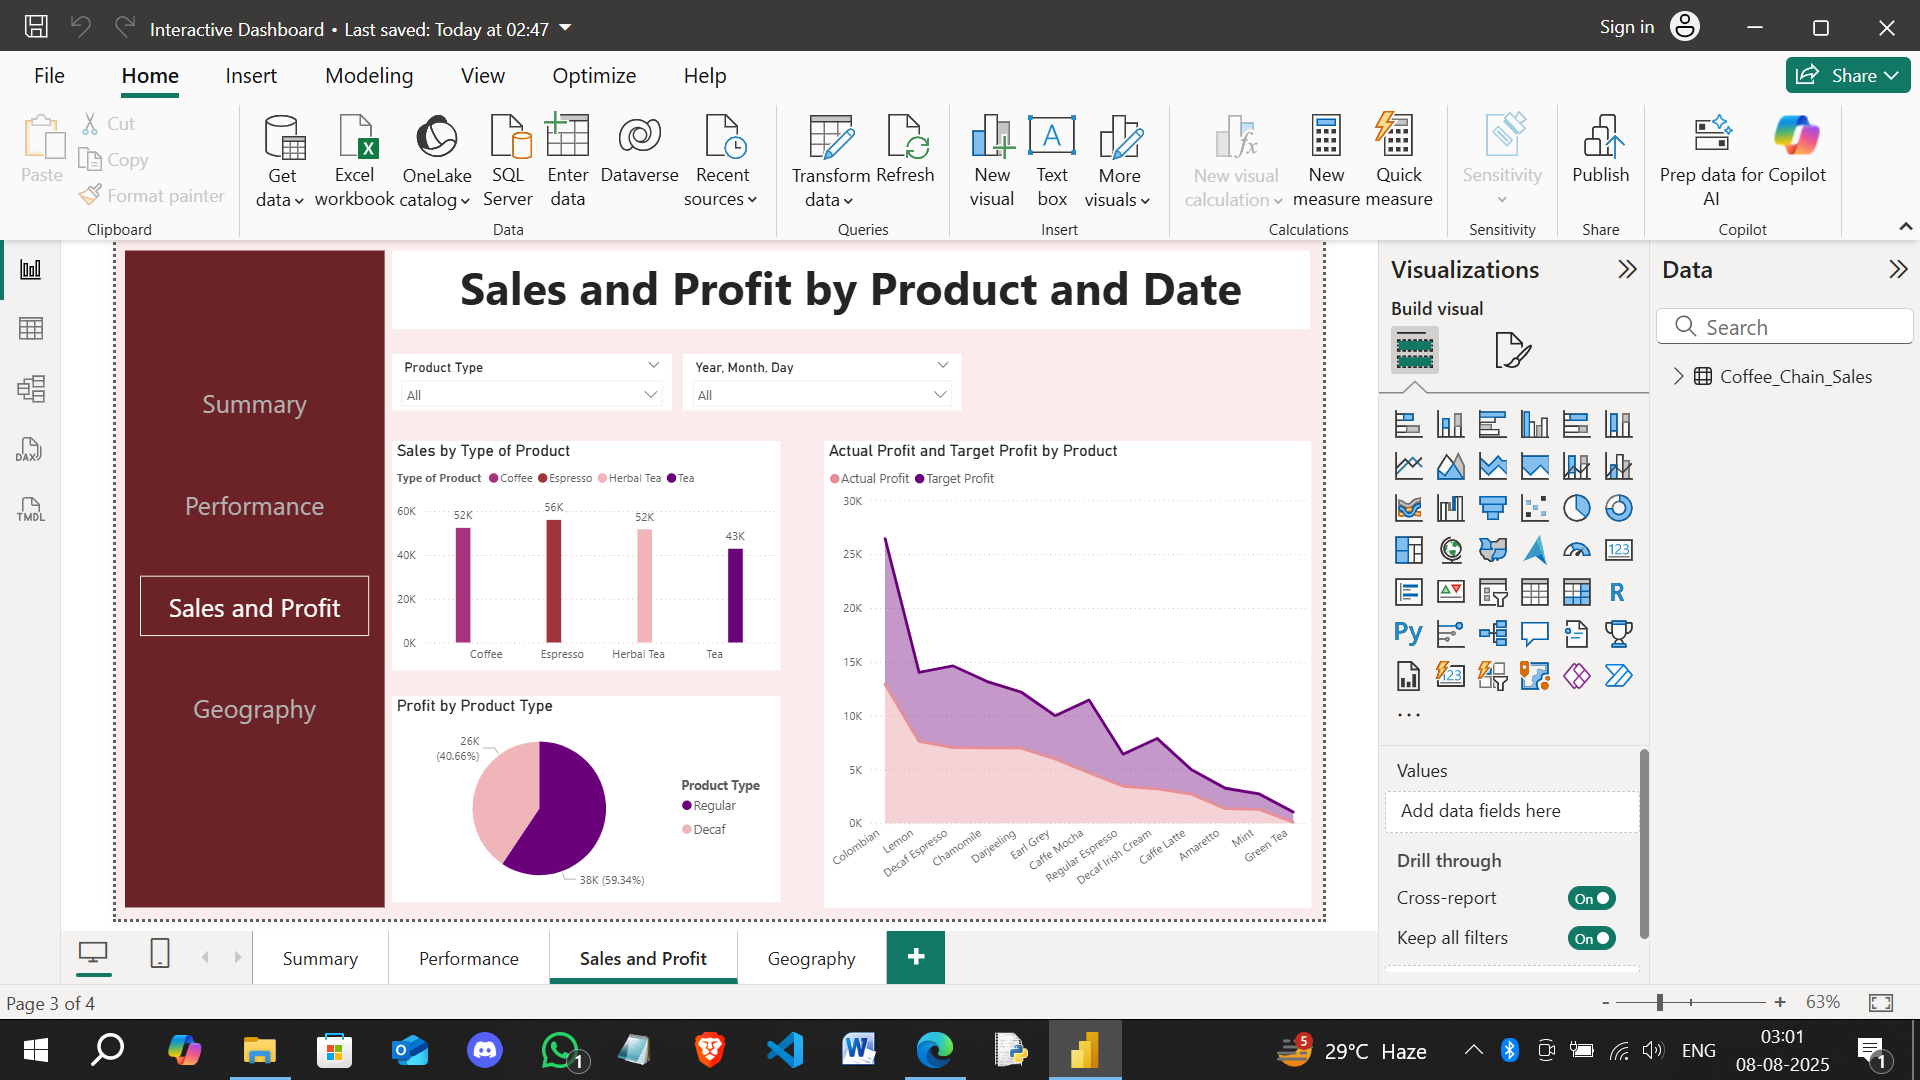

What the dashboard file says about the page in this screenshot:
{"tool":"powerbi","page":{"name":"Sales and Profit","canvas":[1280,720],"ordinal":2},"visuals":[{"type":"textbox","box":[9.5,11.1,275.2,696.7],"z":0},{"type":"textbox","box":[293.3,11.7,973.3,83.3],"z":1000},{"type":"clusteredColumnChart","title":" Sales by Type of Product","fields":{"Y":["Sum(Coffee_Chain_Sales.Sales)"],"Category":["Coffee_Chain_Sales.Product_type","Coffee_Chain_Sales.Product"],"Series":["Coffee_Chain_Sales.Product_type"]},"box":[293.3,213.3,411.7,243.3],"z":2000},{"type":"stackedAreaChart","fields":{"Y":["Sum(Coffee_Chain_Sales.Profit)","Sum(Coffee_Chain_Sales.Target_profit)"],"Category":["Coffee_Chain_Sales.Product"]},"box":[750,213.3,516.7,495],"z":3000},{"type":"slicer","fields":{"Values":["Coffee_Chain_Sales.Year","Coffee_Chain_Sales.Month","Coffee_Chain_Sales.Day"]},"box":[601.7,121.7,295,60],"z":4000},{"type":"slicer","title":"Product","fields":{"Values":["Coffee_Chain_Sales.Product_type","Coffee_Chain_Sales.Product"]},"box":[293.3,121.7,296.7,60],"z":5000},{"type":"pieChart","title":"Profit by Product Type","fields":{"Category":["Coffee_Chain_Sales.Type"],"Y":["Sum(Coffee_Chain_Sales.Profit)"]},"box":[293.3,483.3,411.7,218.3],"z":6000},{"type":"pageNavigator","box":[25.4,140,243.4,388.1],"z":6001}]}

Visuals, with their boxes on the page's 1280x720 design canvas (x1, y1, x2, y2). These are canvas units, not pixel positions in the 1920x1080 screenshot, which may show the page scaled, cropped or inside an application window:
textbox: 10:11:285:708
textbox: 293:12:1267:95
" Sales by Type of Product" clusteredColumnChart: 293:213:705:457
stackedAreaChart - Sum(Coffee_Chain_Sales.Profit) x Sum(Coffee_Chain_Sales.Target_profit): 750:213:1267:708
slicer - Coffee_Chain_Sales.Year x Coffee_Chain_Sales.Month: 602:122:897:182
"Product" slicer: 293:122:590:182
"Profit by Product Type" pieChart: 293:483:705:702
pageNavigator: 25:140:269:528
